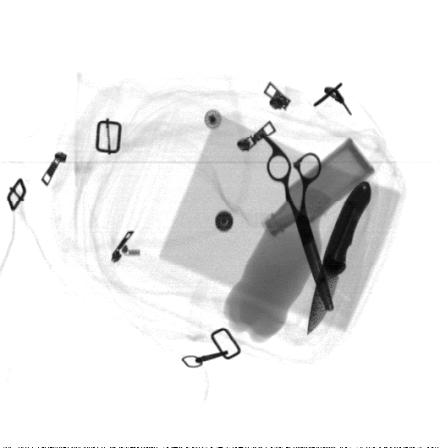Knife: (306, 181, 371, 336)
Scissors: (259, 134, 337, 311)
